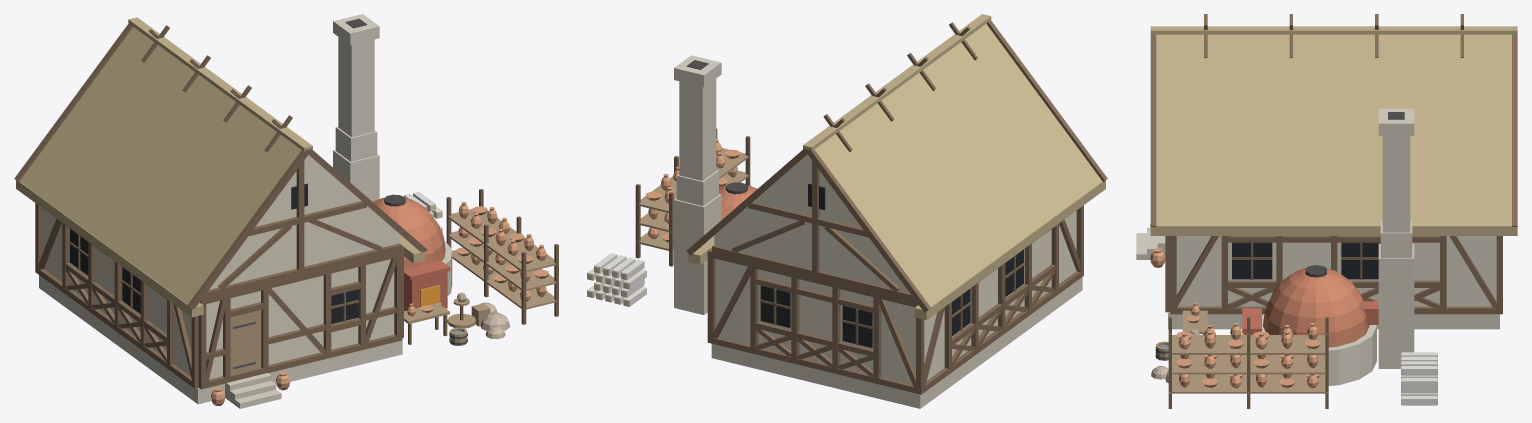
File: house_potter.glb
3 renders of one model, left to right at view 1: azimuth 30°, elevation 25°; view 2: azimuth 150°, elevation 25°; view 3: azimuth 270°, elevation 25°, orthographic. The views are drawn at different scales.
Visible parts, largest first — view 1: HousePotter; view 2: HousePotter; view 3: HousePotter.
Boxes of the visible parts, x1=… form: HousePotter: x1=14, y1=14, x2=558, y2=408; HousePotter: x1=587, y1=14, x2=1107, y2=408; HousePotter: x1=1136, y1=14, x2=1517, y2=408.
Size of the model in its own units: 12.77 by 8.03 by 10.7.
